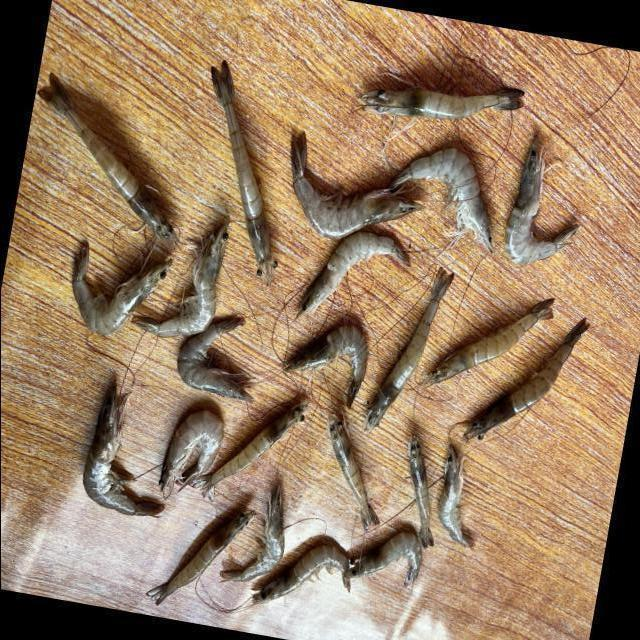shrimp: (37, 76, 177, 250), (464, 318, 590, 440), (363, 267, 454, 431), (210, 60, 276, 284), (290, 132, 423, 238), (423, 298, 555, 388), (132, 215, 228, 337), (192, 401, 307, 497), (81, 383, 163, 517), (390, 148, 494, 252), (145, 511, 254, 606), (296, 231, 409, 318), (505, 136, 580, 264), (71, 243, 171, 335), (284, 326, 367, 409), (176, 317, 252, 402), (219, 485, 284, 583), (326, 414, 379, 531), (252, 545, 351, 605), (158, 410, 222, 499), (358, 87, 525, 118), (342, 532, 422, 587), (438, 446, 474, 549), (408, 435, 434, 549)
